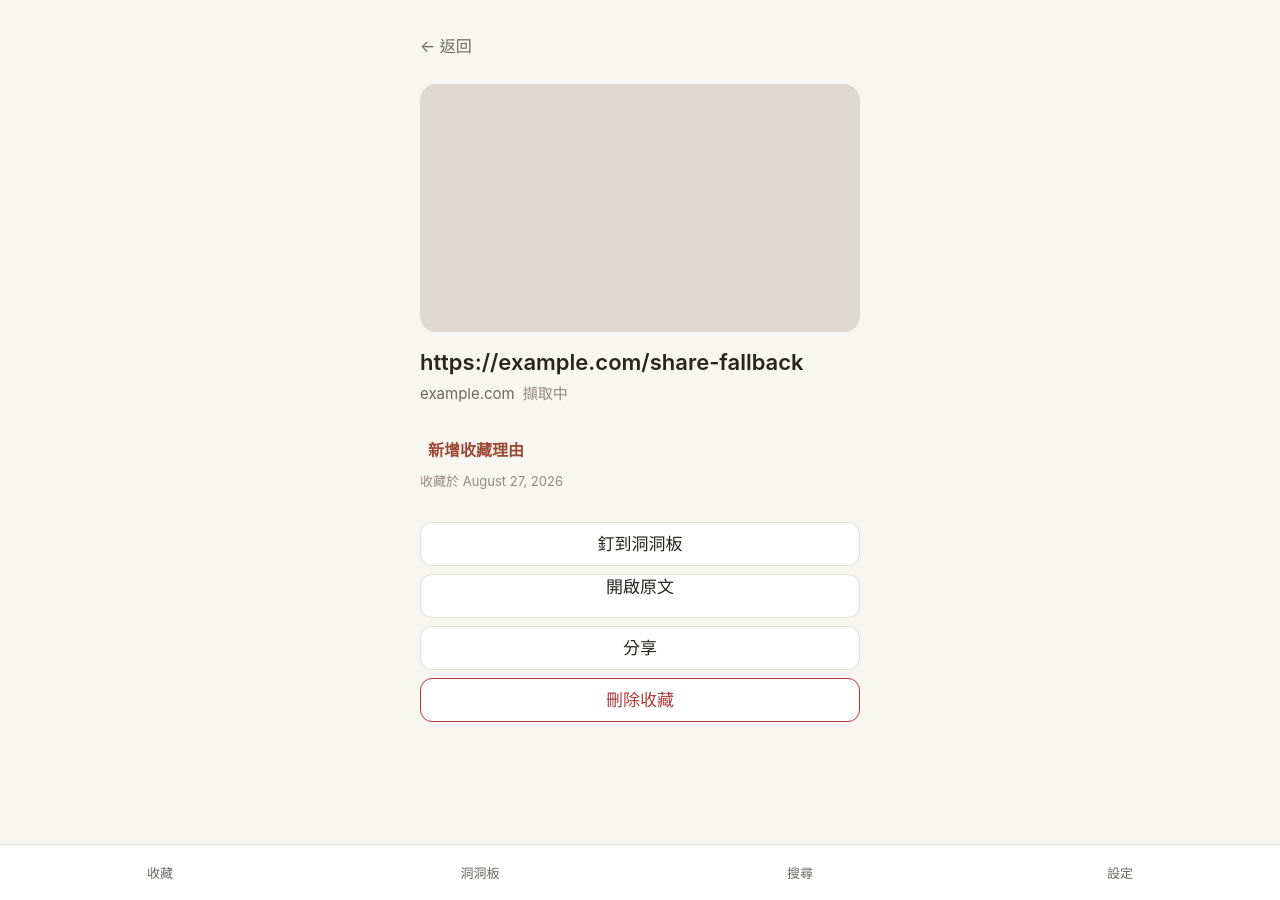
Test case: Bookmark Detail flow › falls back to copying the link when navigator.share is unsupported
Expected: the heading "https://example.com/share-fallback" is shown, [420,348,860,376]
What coordinates should you click on to do the following:
click the button "分享"
I would click on:
 (640, 648)
Its box is [420,626,860,670].
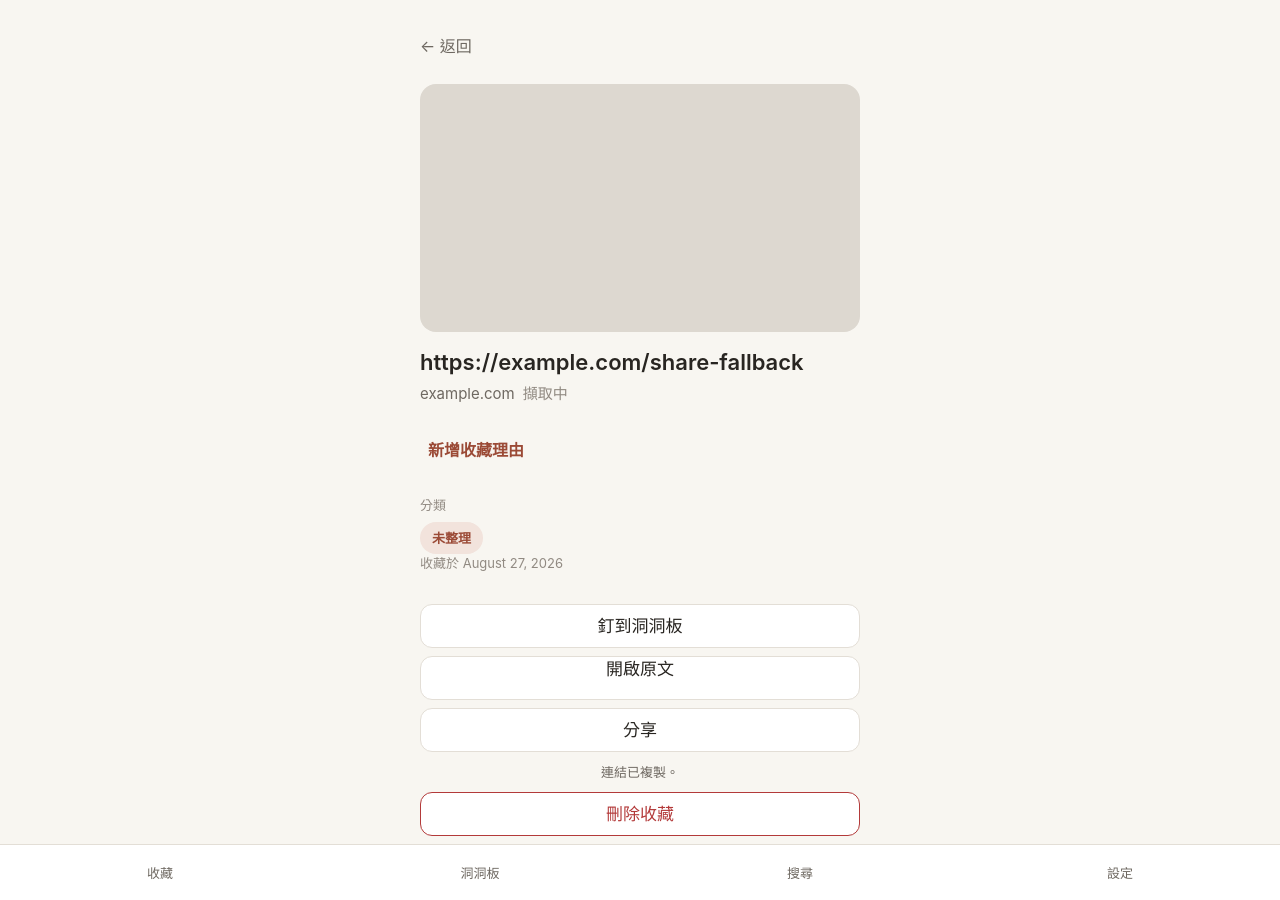
Now the text "連結已複製。" is shown, box [601,764,679,780]
